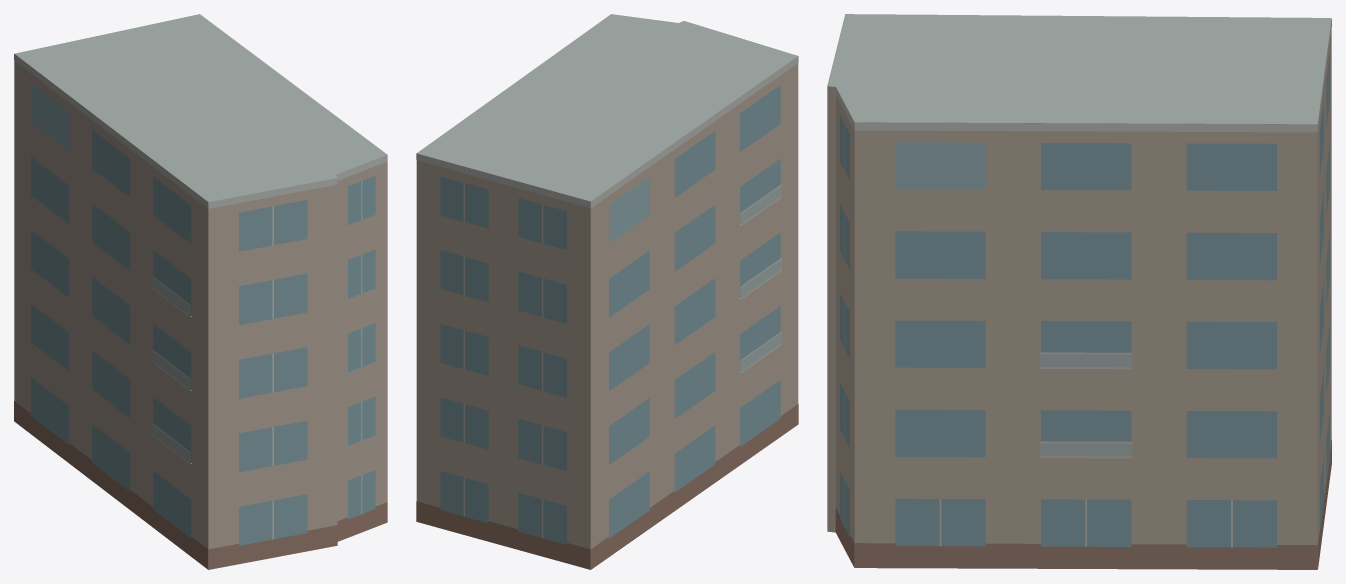
File: survey-upis-32998243.glb
The picture shows the model from 3 angles, left to right: view 1: azimuth 30°, elevation 25°; view 2: azimuth 150°, elevation 25°; view 3: azimuth 270°, elevation 25°; orthographic projection. The views are drawn at different scales.
Visible parts, largest first — view 1: survey-upis-32998243.tmp; view 2: survey-upis-32998243.tmp; view 3: survey-upis-32998243.tmp.
Boxes of the visible parts, x1,y1,x2,y2 form: survey-upis-32998243.tmp: (14,14,387,569); survey-upis-32998243.tmp: (416,14,798,569); survey-upis-32998243.tmp: (827,14,1331,569).
Bounding box in the file's own units: 7.08 × 13.3 × 13.66.
